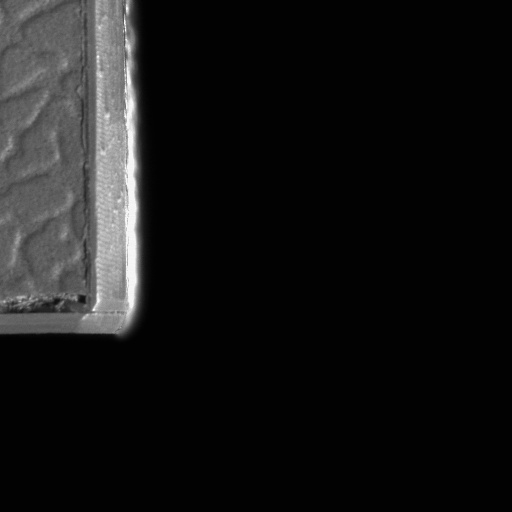bengque: (2, 290, 96, 318)
